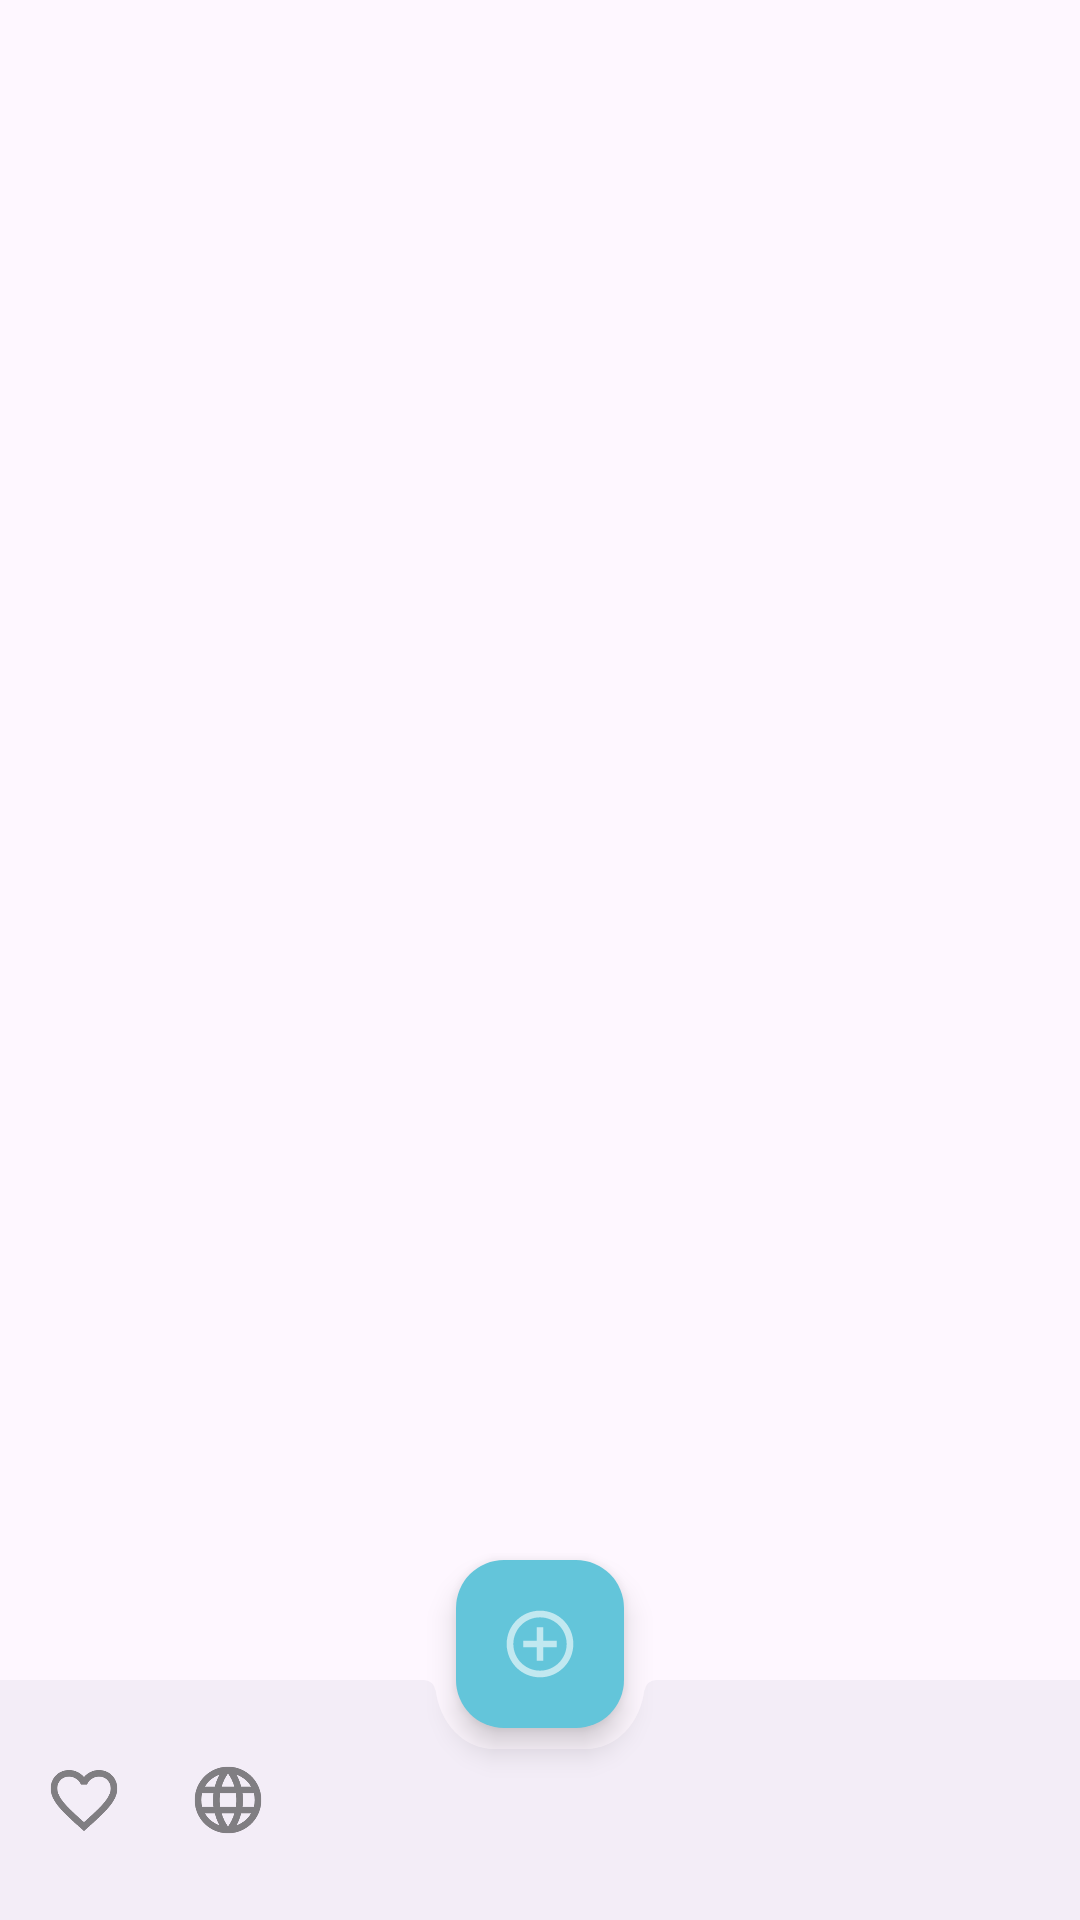

Locate icon controls on the screen. Image size 1080x1920, boxes as (x1, y1, x2, y2).
add: (456, 1596, 624, 1736)
